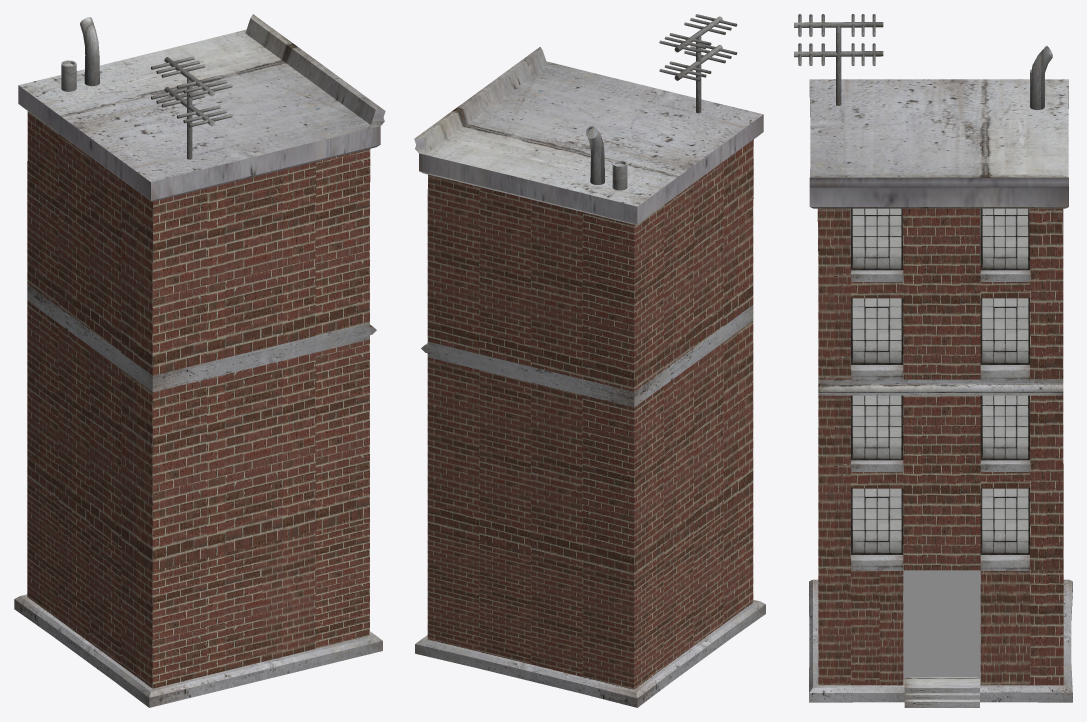
File: BuildingUno.fbx
3 views of the same model, side by side, from view 1: azimuth 30°, elevation 25°; view 2: azimuth 150°, elevation 25°; view 3: azimuth 270°, elevation 25° (orthographic). The views are drawn at different scales.
Parts seen in each view (by area): view 1: pCube27; view 2: pCube27; view 3: pCube27.
Boxes of the visible parts, x1,y1,x2,y2 form: pCube27: (14, 14, 385, 707); pCube27: (414, 14, 765, 707); pCube27: (794, 14, 1072, 707).
Size of the model in its own units: 1.13 by 2.68 by 1.14.
